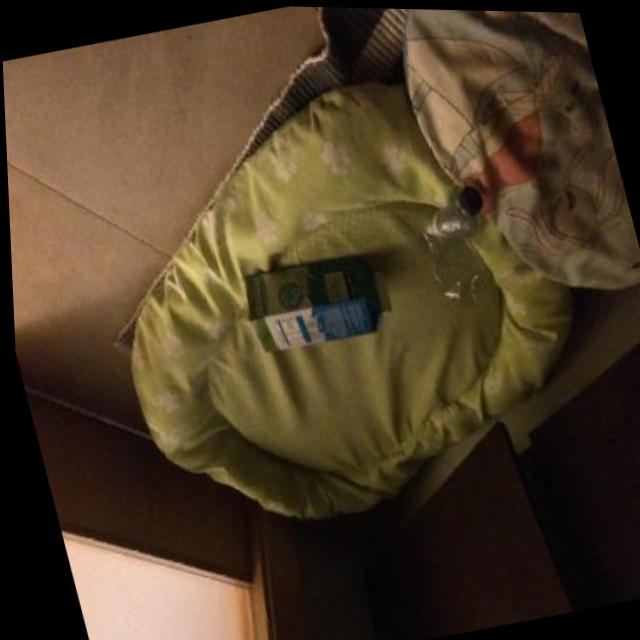cardboard: (235, 244, 400, 360)
plastic: (412, 180, 508, 314)
